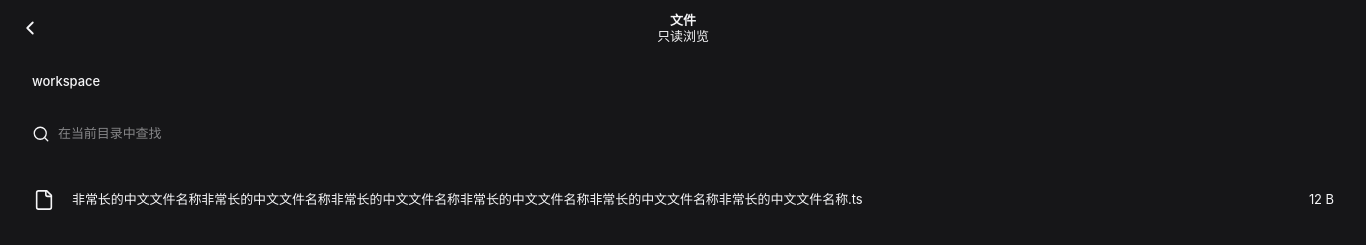
Test: panel presentation contracts › keeps long file names readable in content instead of squeezing the header
The width and height of the screenshot is (1366, 245).
Click the 3rd button: (683, 200) [16,172,1350,228]
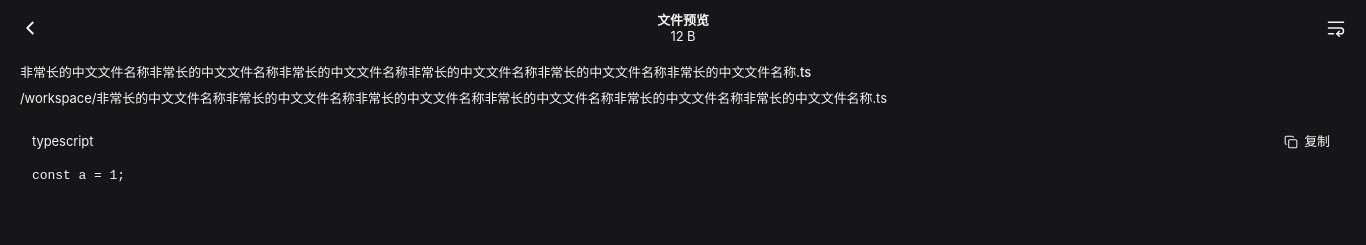
Check: the text "文件预览" is shown, box [657,12,709,28]
